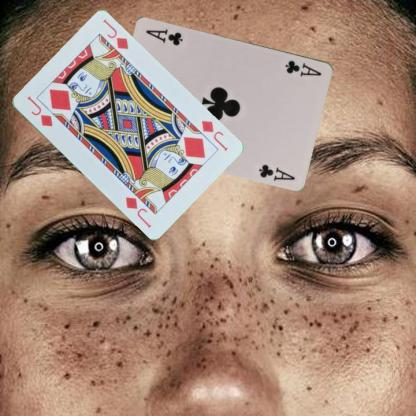Ac: (283, 57, 323, 78)
Jd: (198, 118, 229, 152), (24, 94, 54, 128)
